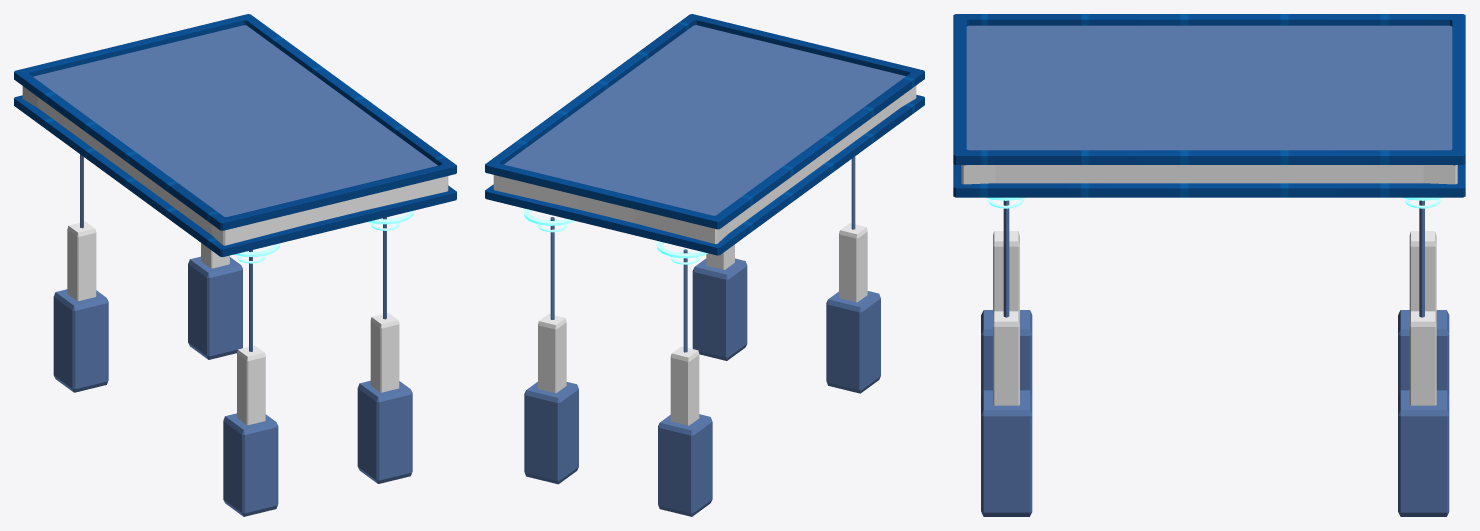
The model's file is Nuova_console_scifi.fbx.
The picture shows the model from 3 angles, left to right: view 1: azimuth 30°, elevation 25°; view 2: azimuth 150°, elevation 25°; view 3: azimuth 270°, elevation 25°; orthographic projection. The views are drawn at different scales.
Visible parts, largest first — view 1: Serranda, Tavolo, Gambe_base_01, Gambe_base_02, Gambe_base_03; view 2: Serranda, Tavolo, Gambe_base_01, Gambe_base_02, Gambe_base_03; view 3: Serranda, Tavolo, Gambe_base_01, Gambe_base_02, Gambe_base_03.
Part boxes in pixels (<box>): Serranda: <box>33,25,437,216</box>; Tavolo: <box>14,14,456,256</box>; Gambe_base_01: <box>53,256,412,516</box>; Gambe_base_02: <box>67,221,399,425</box>; Gambe_base_03: <box>80,154,386,351</box>; Serranda: <box>504,25,905,215</box>; Tavolo: <box>485,14,924,255</box>; Gambe_base_01: <box>524,258,880,516</box>; Gambe_base_02: <box>538,223,867,425</box>; Gambe_base_03: <box>550,156,855,352</box>; Serranda: <box>966,25,1452,150</box>; Tavolo: <box>953,14,1465,197</box>; Gambe_base_01: <box>981,310,1449,516</box>; Gambe_base_02: <box>993,231,1436,405</box>; Gambe_base_03: <box>1003,200,1424,317</box>.
Bounding box in the file's own units: 39.61 × 49.76 × 60.41.
Materials: 6 (2 with a texture image).
